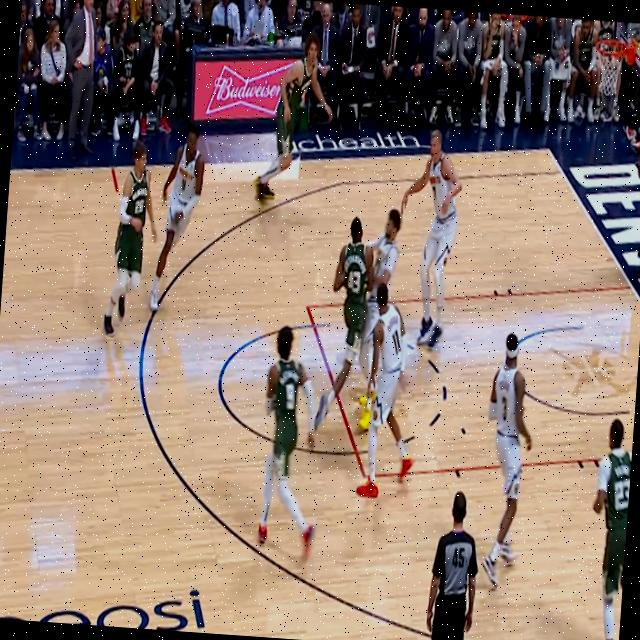Foul: (354, 203, 402, 314)
